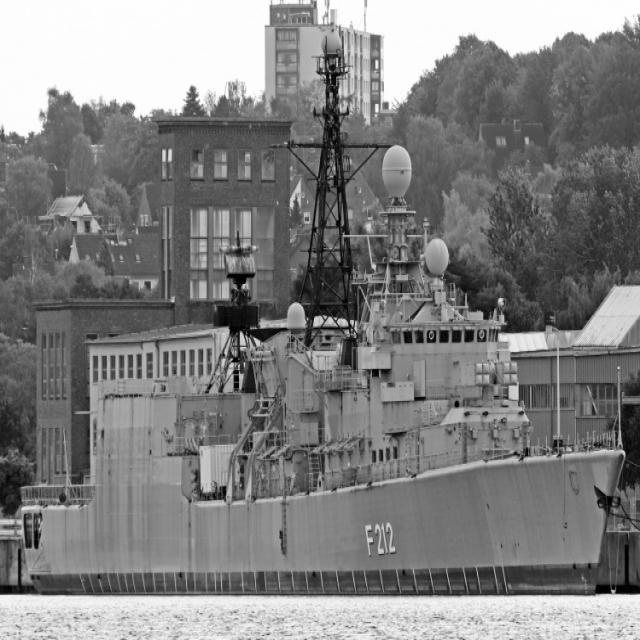Fragata: (7, 14, 628, 591)
